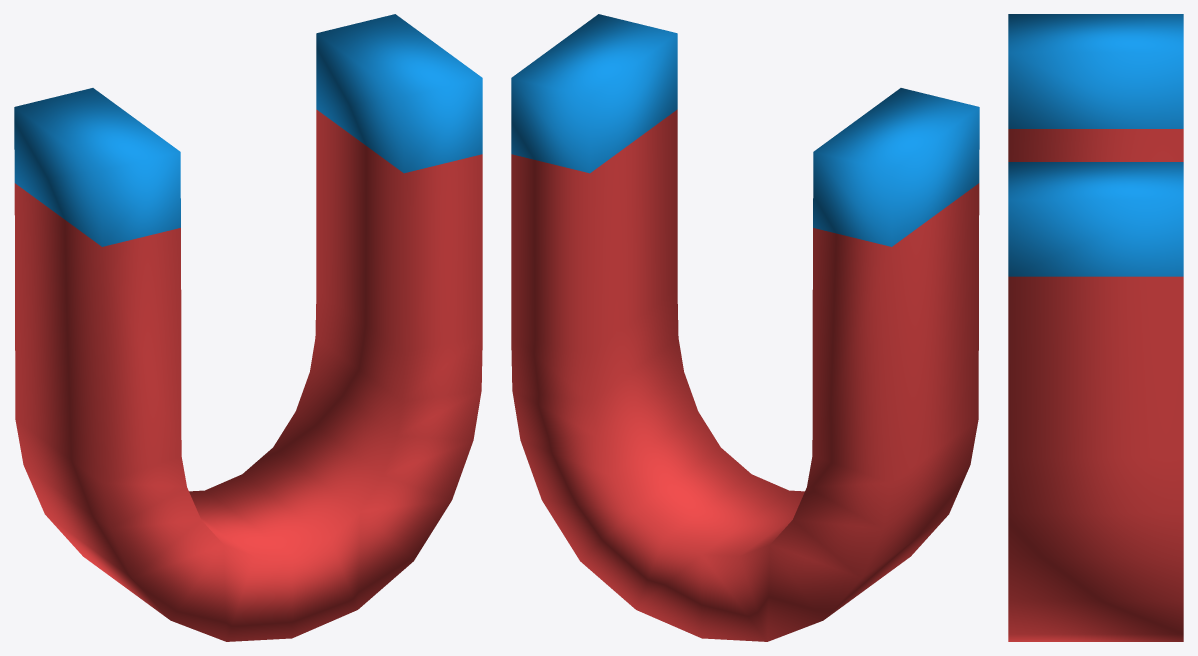
The model's file is Magnet.dae.
3 views of the same model, side by side, from view 1: azimuth 30°, elevation 25°; view 2: azimuth 150°, elevation 25°; view 3: azimuth 270°, elevation 25° (orthographic).
Parts seen in each view (by area): view 1: Circle.007; view 2: Circle.007; view 3: Circle.007.
Boxes of the visible parts, x1,y1,x2,y2 form: Circle.007: (14, 14, 482, 641); Circle.007: (511, 14, 979, 641); Circle.007: (1008, 14, 1183, 641).
Bounding box in the file's own units: 5.49 × 2.18 × 7.07.
